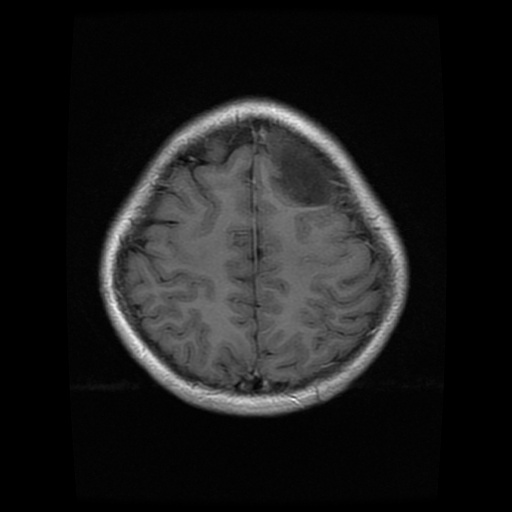glioma: (270, 134, 339, 205)
